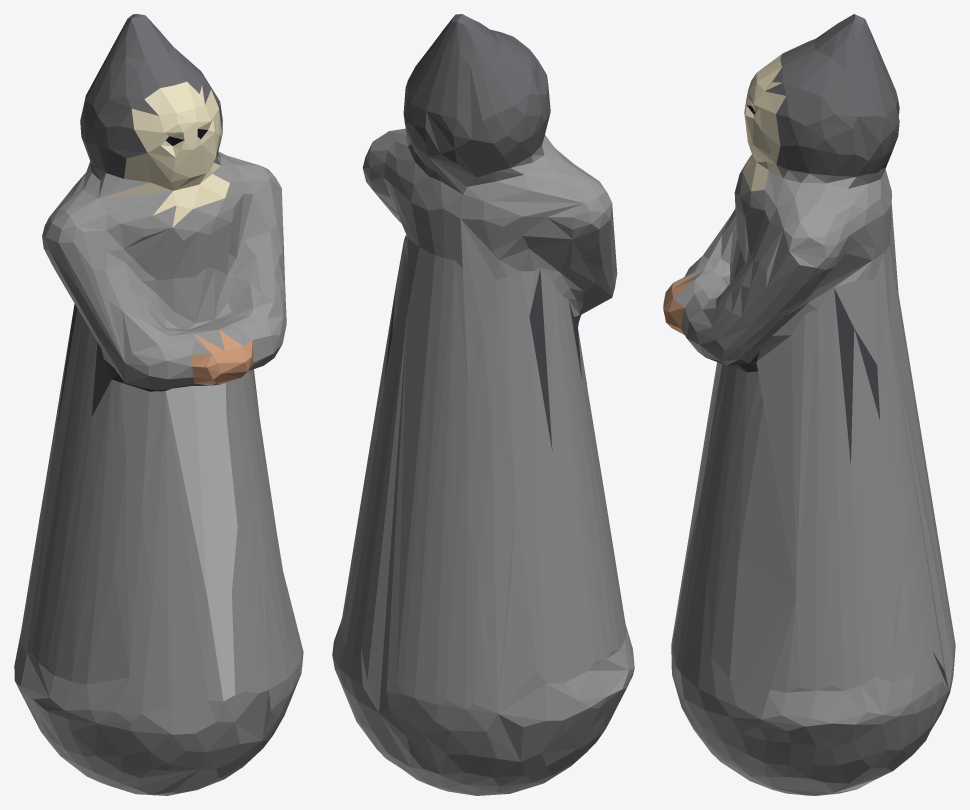
File: cultist.fbx
The picture shows the model from 3 angles, left to right: view 1: azimuth 30°, elevation 25°; view 2: azimuth 150°, elevation 25°; view 3: azimuth 270°, elevation 25°; orthographic projection. The views are drawn at different scales.
Visible parts, largest first — view 1: Cultist; view 2: Cultist; view 3: Cultist.
Boxes of the visible parts, left/top/right/bottom form: Cultist: left=14, top=14, right=303, bottom=795; Cultist: left=332, top=14, right=634, bottom=795; Cultist: left=663, top=14, right=955, bottom=795.
Size of the model in its own units: 0.7299 by 2.03 by 0.7008.
Materials: 1 (1 with a texture image).
